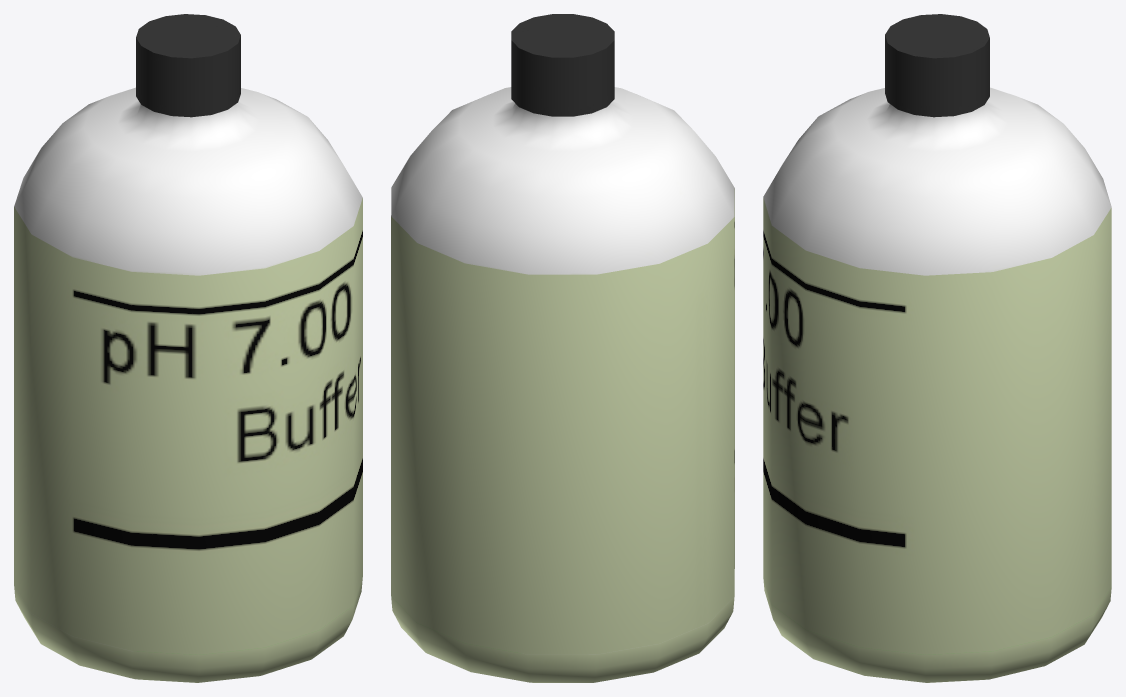
The model's file is pH7_Buffer_Animations.FBX.
3 views of the same model, side by side, from view 1: azimuth 30°, elevation 25°; view 2: azimuth 150°, elevation 25°; view 3: azimuth 270°, elevation 25° (orthographic).
Visible parts, largest first — view 1: pH_Buffer_7, pH_Buffer_7_Lid; view 2: pH_Buffer_7, pH_Buffer_7_Lid; view 3: pH_Buffer_7, pH_Buffer_7_Lid.
Part boxes in pixels (<box>): pH_Buffer_7: <box>14,87,362,682</box>; pH_Buffer_7_Lid: <box>136,14,240,117</box>; pH_Buffer_7: <box>391,87,734,682</box>; pH_Buffer_7_Lid: <box>511,14,614,116</box>; pH_Buffer_7: <box>763,87,1111,682</box>; pH_Buffer_7_Lid: <box>885,14,989,117</box>.
Bounding box in the file's own units: 7.98 × 14.77 × 7.98.
